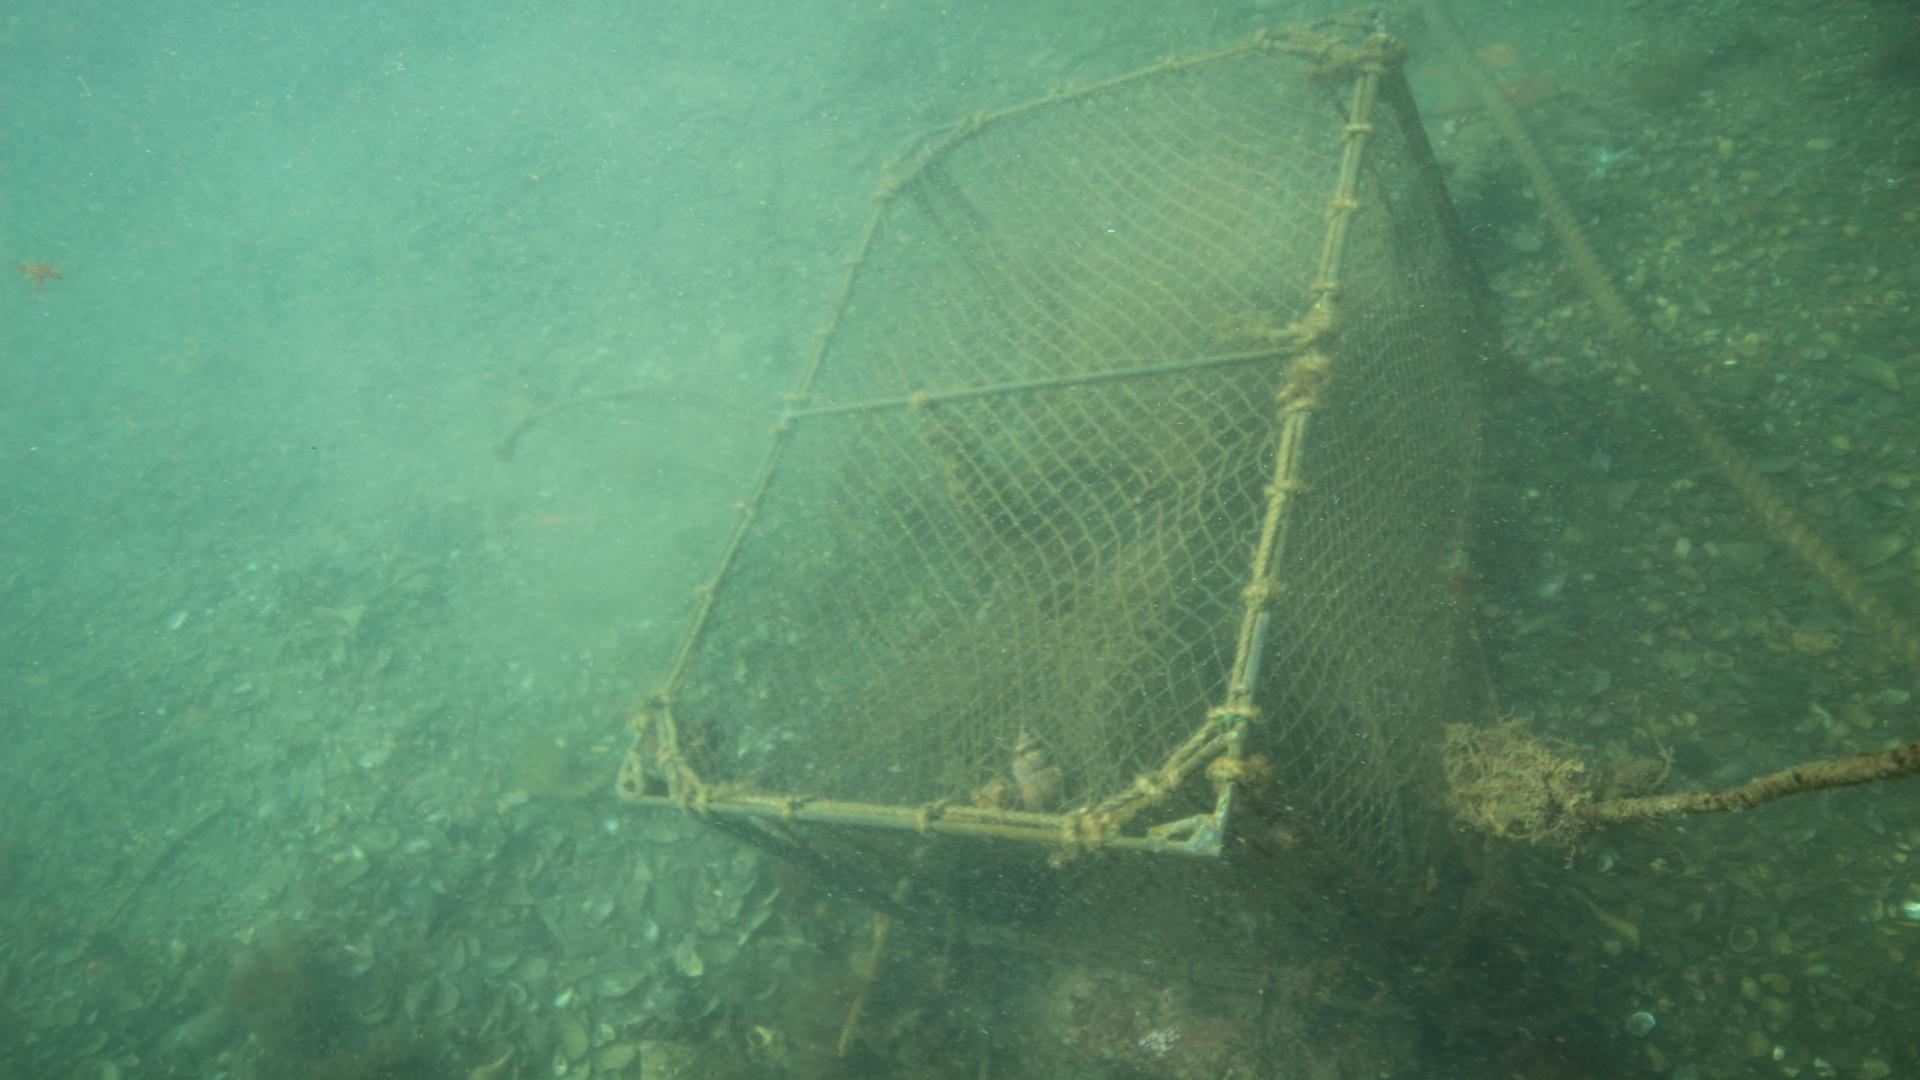rectangular fish trap: (613, 7, 1502, 1029)
rope: (1420, 0, 1920, 669)
